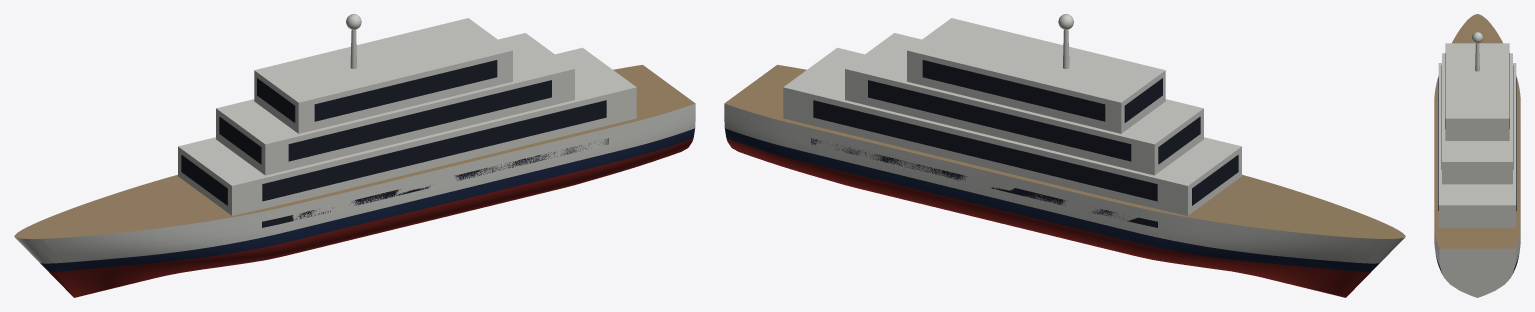
Rendered from superyacht.glb.
The picture shows the model from 3 angles, left to right: view 1: azimuth 30°, elevation 25°; view 2: azimuth 150°, elevation 25°; view 3: azimuth 270°, elevation 25°; orthographic projection. The views are drawn at different scales.
Parts seen in each view (by area): view 1: superyacht; view 2: superyacht; view 3: superyacht.
Boxes of the visible parts, x1,y1,x2,y2 form: superyacht: (14, 14, 695, 297); superyacht: (724, 14, 1405, 297); superyacht: (1434, 14, 1520, 297).
Size of the model in its own units: 66 by 20.72 by 10.5.
